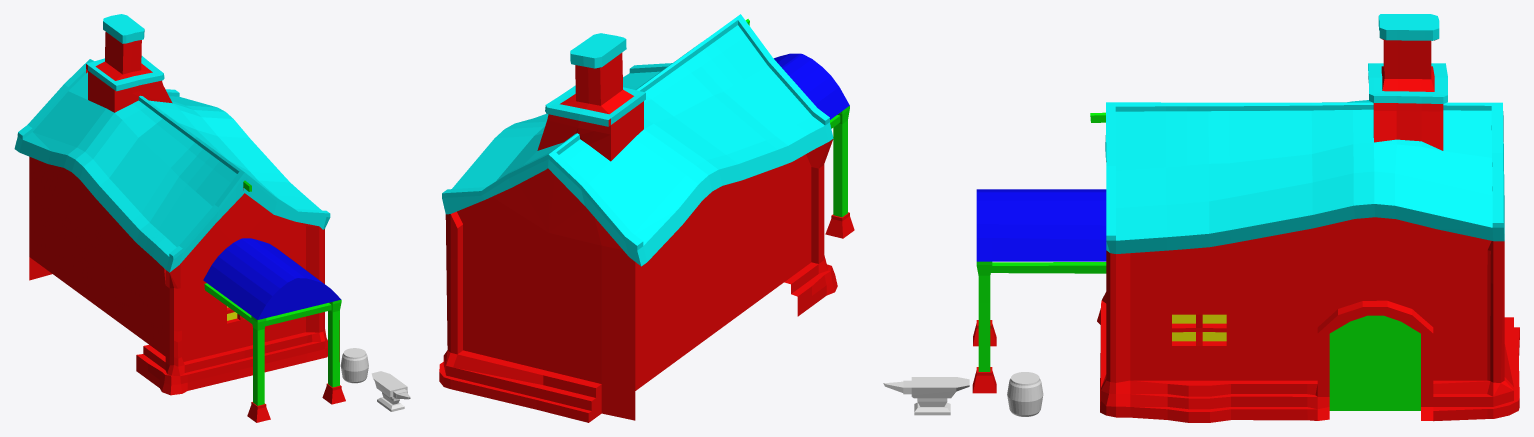
Rendered from Schmiede2.glb.
The picture shows the model from 3 angles, left to right: view 1: azimuth 30°, elevation 25°; view 2: azimuth 150°, elevation 25°; view 3: azimuth 270°, elevation 25°; orthographic projection. The views are drawn at different scales.
Visible parts, largest first — view 1: Blacksmith, Anvil, Box1; view 2: Blacksmith; view 3: Blacksmith, Anvil, Box1.
Boxes of the visible parts, left/top/right/bottom form: Blacksmith: left=14, top=14, right=345, bottom=422; Anvil: left=371, top=371, right=410, bottom=411; Box1: left=340, top=348, right=368, bottom=383; Blacksmith: left=439, top=14, right=854, bottom=422; Blacksmith: left=972, top=14, right=1519, bottom=422; Anvil: left=883, top=377, right=969, bottom=415; Box1: left=1007, top=372, right=1043, bottom=416.
Size of the model in its own units: 14.4 by 20.62 by 35.07.
